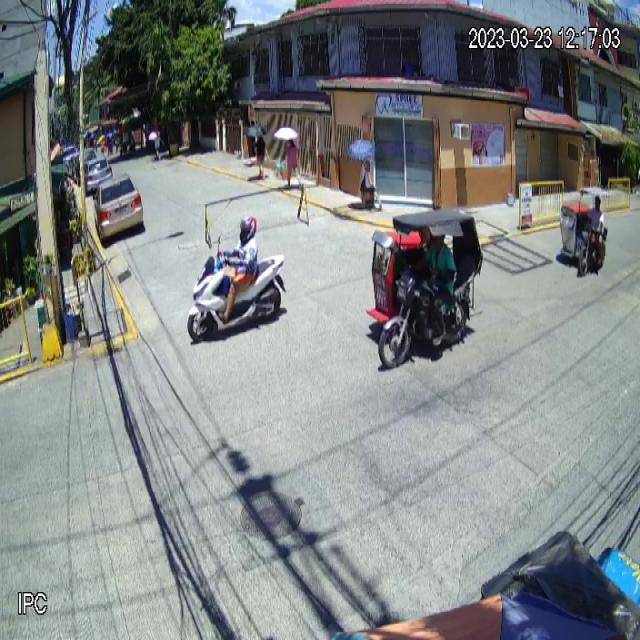Motorcycle: (187, 235, 287, 342)
Tricycle: (366, 208, 484, 369), (560, 186, 609, 278)
